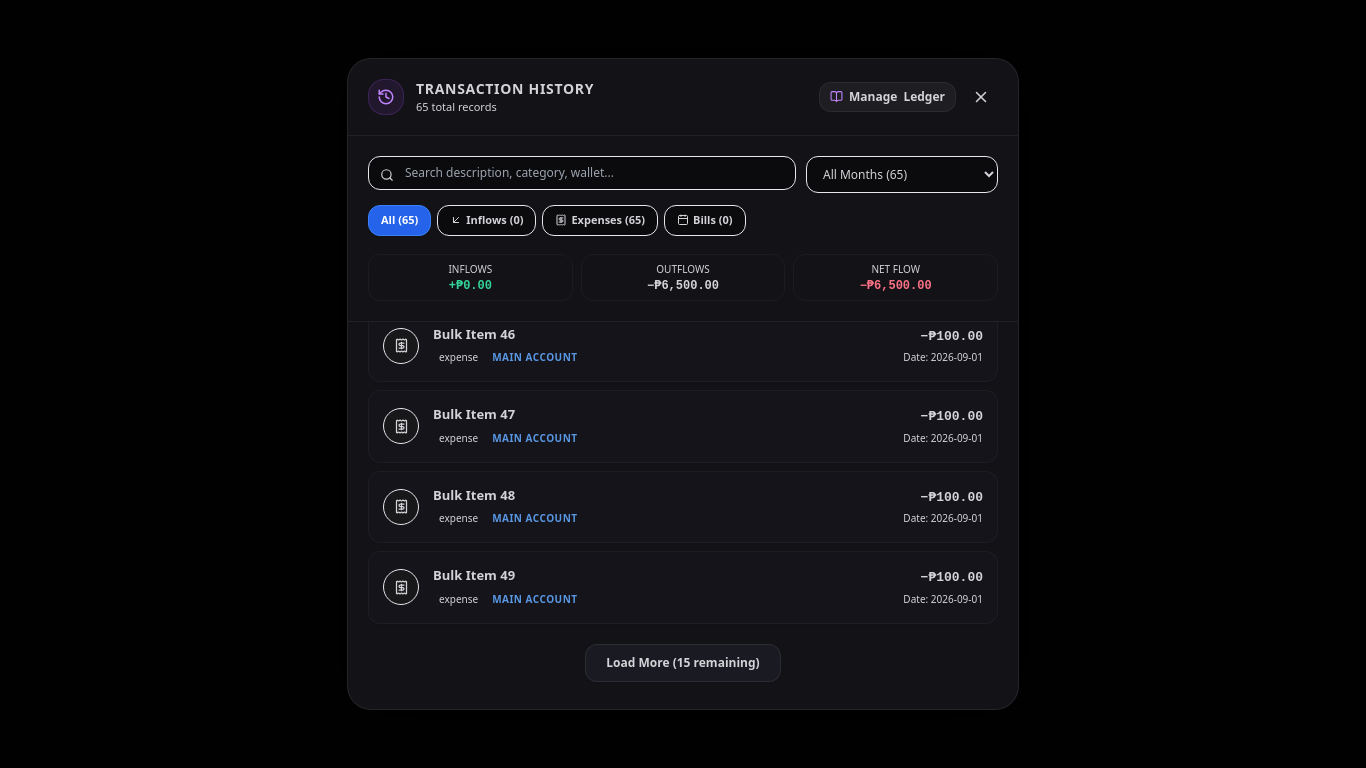
Test case: TransactionHistoryModal › supports bounded rendering and Load More for large transaction lists
(page scrolled)
Expected: the text "Bulk Item 49" is shown, [433,566,515,584]
# Click Load More
Click the button "Load More (15 remaining)" at [683, 663], box [585,644,781,682]
(page scrolled)
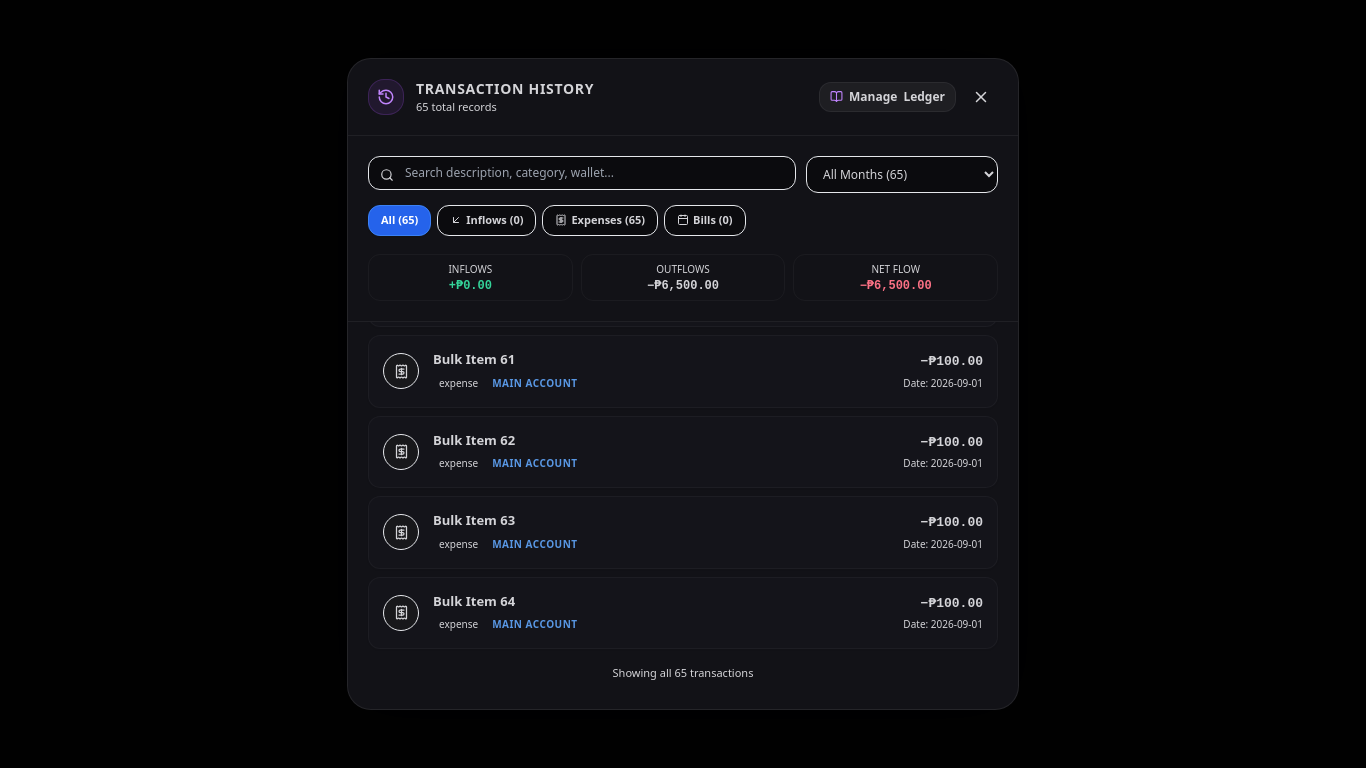
Expected: the text "Bulk Item 64" is shown, [433,592,515,610]
Expected: the text "Showing all 65 transactions" is shown, [613,665,754,680]
